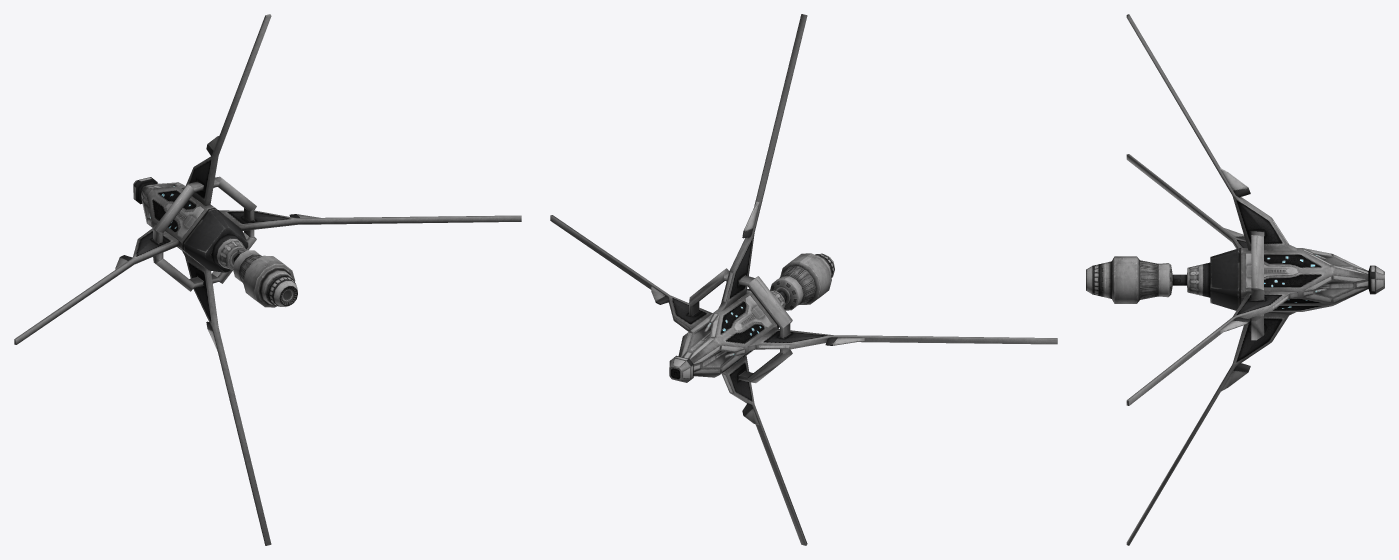
Rendered from 31868_lite.glb.
3 renders of one model, left to right at view 1: azimuth 30°, elevation 25°; view 2: azimuth 150°, elevation 25°; view 3: azimuth 270°, elevation 25°, orthographic.
Parts seen in each view (by area): view 1: ship; view 2: ship; view 3: ship.
Part boxes in pixels (x1,y1,x2,y2): ship: (14, 14, 521, 545); ship: (550, 14, 1057, 545); ship: (1086, 14, 1384, 545).
Size of the model in its own units: 0.1104 by 0.1104 by 0.0565.
1 material, 1 textured.
